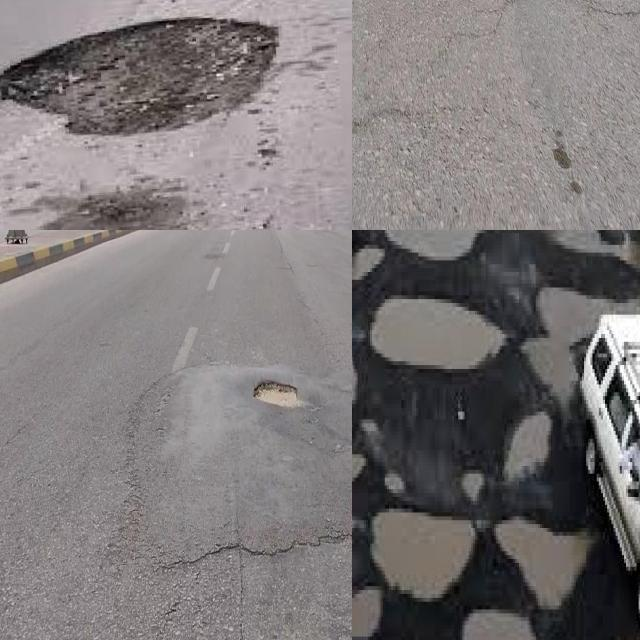Pothole: (0, 17, 277, 137), (522, 287, 640, 409), (370, 295, 517, 373), (372, 512, 475, 602), (496, 520, 590, 609), (43, 181, 188, 230), (504, 412, 552, 481), (385, 230, 483, 260), (463, 610, 536, 640), (554, 230, 620, 255), (352, 587, 383, 639), (252, 380, 300, 409), (352, 246, 384, 279), (462, 471, 484, 503), (384, 474, 405, 494), (352, 454, 366, 481), (360, 418, 379, 434), (458, 410, 465, 420)
